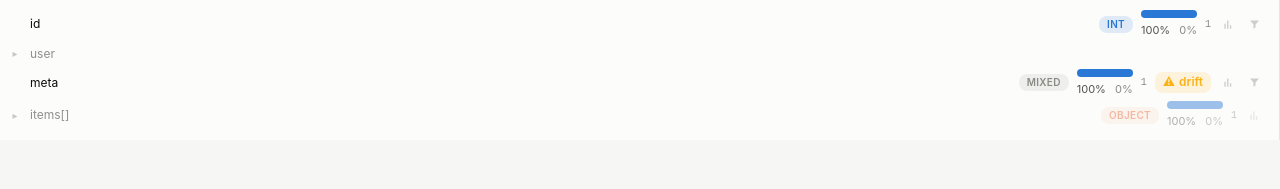
Scenario: StructureMap + TreeNode › dims a node that HAS a FieldDTO but is absent from columnPaths, and it still renders a KindChip (proving the dimming cannot be explained by field === null)
Expected: the text "object" is shown, left=1101, top=107, right=1159, bottom=124
Click the 2nd text with class "caret": [15, 115] box left=12, top=109, right=18, bottom=121
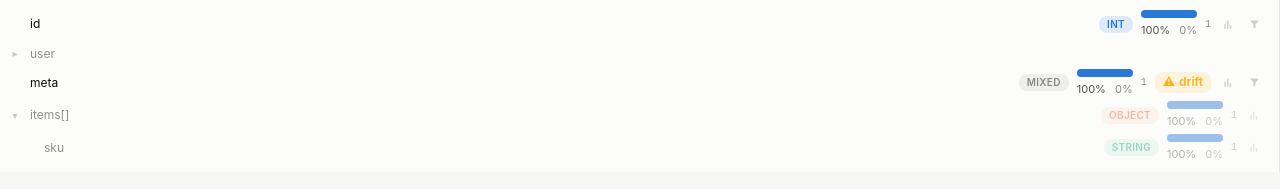
Now the text "string" is shown, box left=1104, top=139, right=1159, bottom=156
